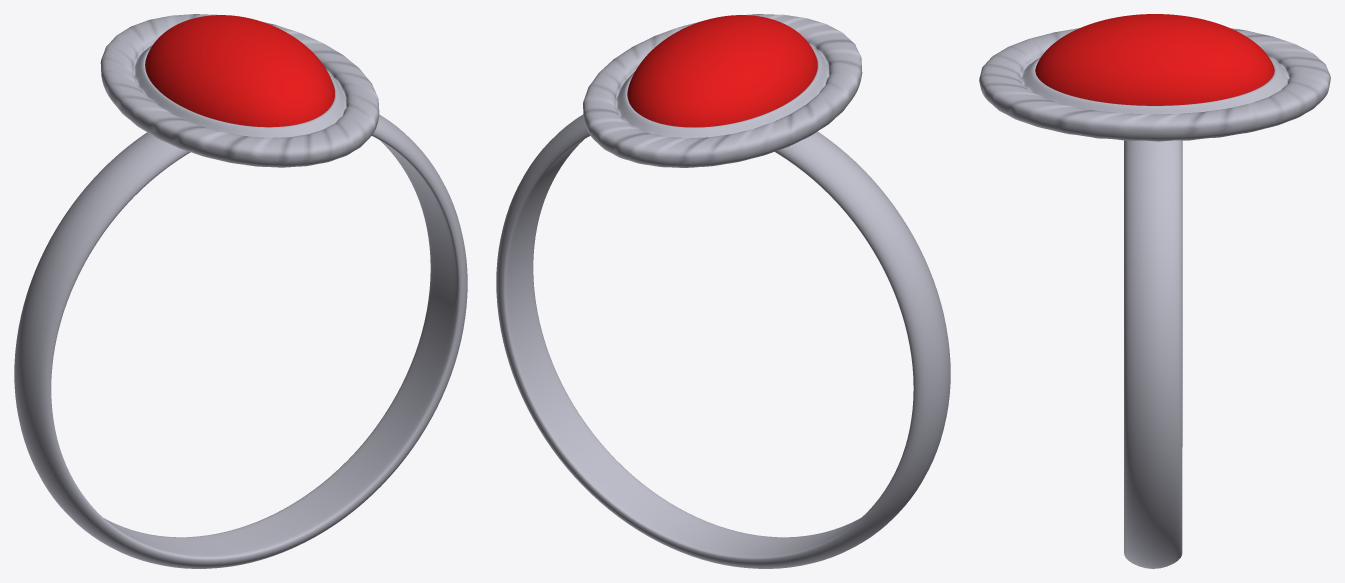
The model's file is Eclipse_Ruby_Ring.glb.
The picture shows the model from 3 angles, left to right: view 1: azimuth 30°, elevation 25°; view 2: azimuth 150°, elevation 25°; view 3: azimuth 270°, elevation 25°; orthographic projection.
Parts seen in each view (by area): view 1: Ring, Ring_Base, Ruby; view 2: Ring, Ring_Base, Ruby; view 3: Ring, Ring_Base, Ruby.
Boxes of the visible parts, bbox=[...] form: Ring: bbox=[14, 114, 467, 568]; Ring_Base: bbox=[100, 14, 379, 167]; Ruby: bbox=[145, 15, 334, 127]; Ring: bbox=[496, 114, 950, 568]; Ring_Base: bbox=[583, 14, 862, 167]; Ruby: bbox=[627, 15, 817, 127]; Ring: bbox=[1124, 140, 1182, 568]; Ring_Base: bbox=[979, 28, 1330, 141]; Ruby: bbox=[1035, 14, 1274, 105].
Size of the model in its own units: 0.0458 by 0.0521 by 0.0319.
